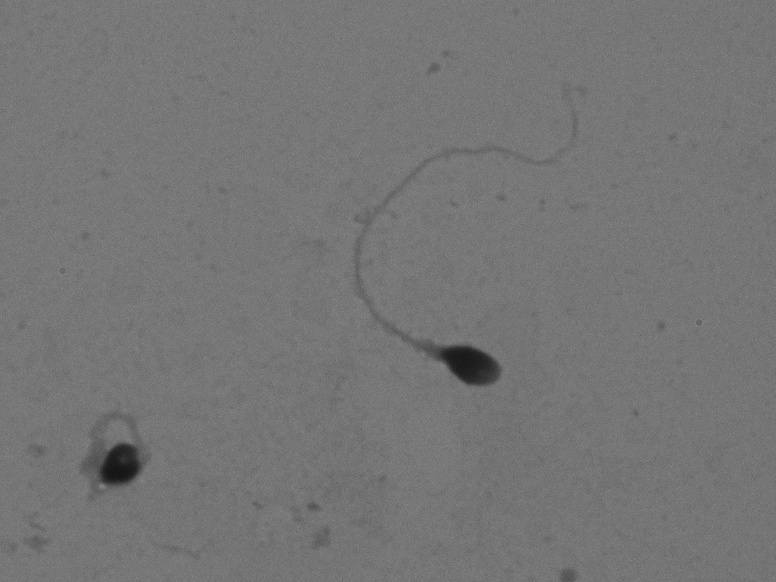Abnormal: (291, 77, 627, 417), (48, 386, 201, 519)
